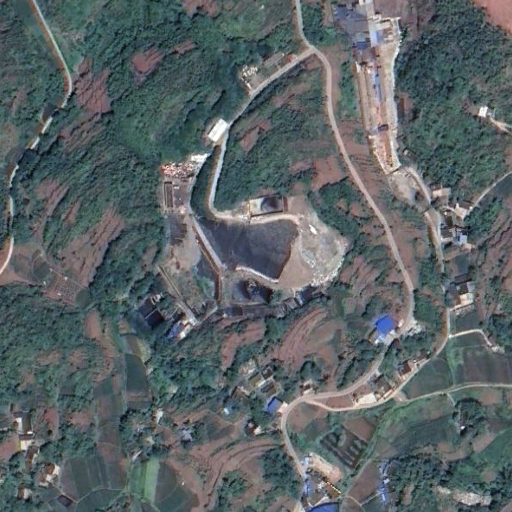lf: (192, 213, 348, 298)
